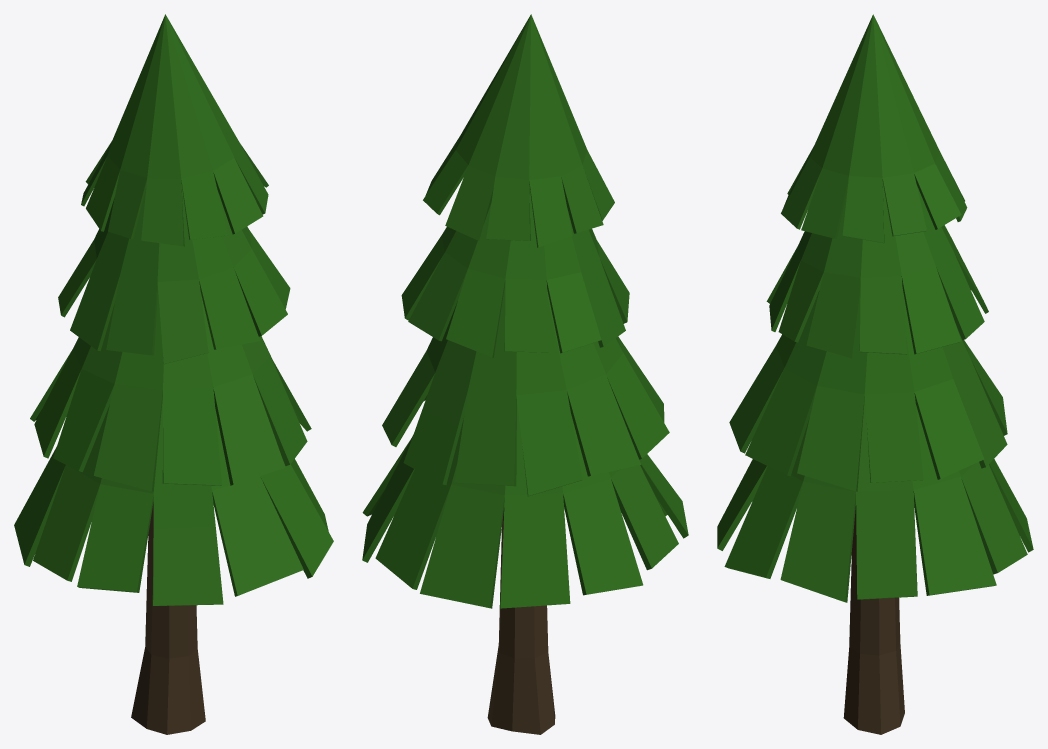
File: Tree2.glb
3 views of the same model, side by side, from view 1: azimuth 30°, elevation 25°; view 2: azimuth 150°, elevation 25°; view 3: azimuth 270°, elevation 25° (orthographic).
Visible parts, largest first — view 1: Tree2; view 2: Tree2; view 3: Tree2.
Boxes of the visible parts, bbox=[...] form: Tree2: bbox=[14, 14, 333, 734]; Tree2: bbox=[362, 14, 688, 734]; Tree2: bbox=[717, 14, 1033, 734].
Size of the model in its own units: 7.22 by 17.97 by 7.34.
